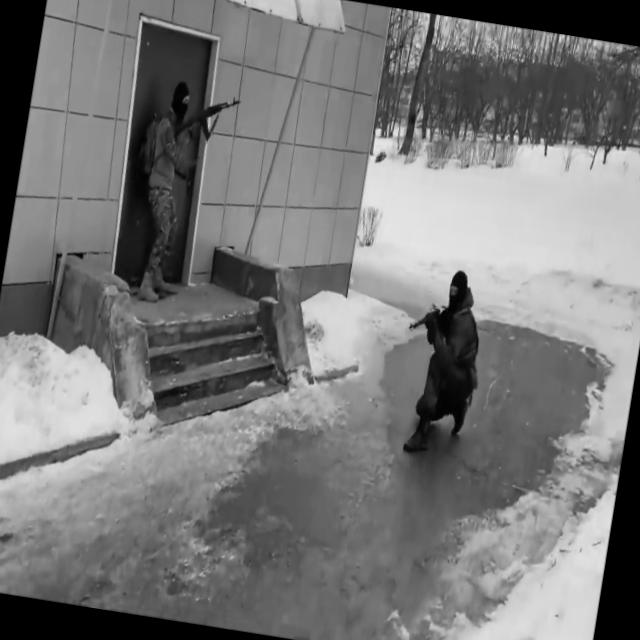gun: (172, 88, 242, 151), (408, 300, 449, 338)
person with a gun: (130, 79, 243, 312), (390, 264, 490, 460)
